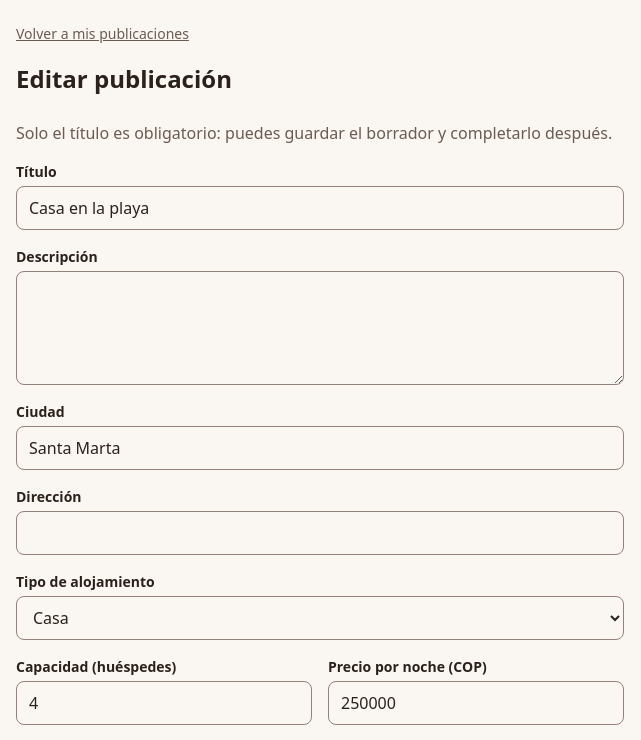
Test: PublicacionFormPage › al editar carga los datos actuales y conserva servicios e imágenes al guardar
Check: the field labelled "Título" holds "Casa en la playa", box top-left (16, 186), bottom-right (624, 230)
Check: the field labelled "Ciudad" holds "Santa Marta", box top-left (16, 426), bottom-right (624, 470)
Replace the text in the field labelled "Precio por noche (COP)" with "300000" at (476,703), box top-left (328, 681), bottom-right (624, 725)
(page scrolled)
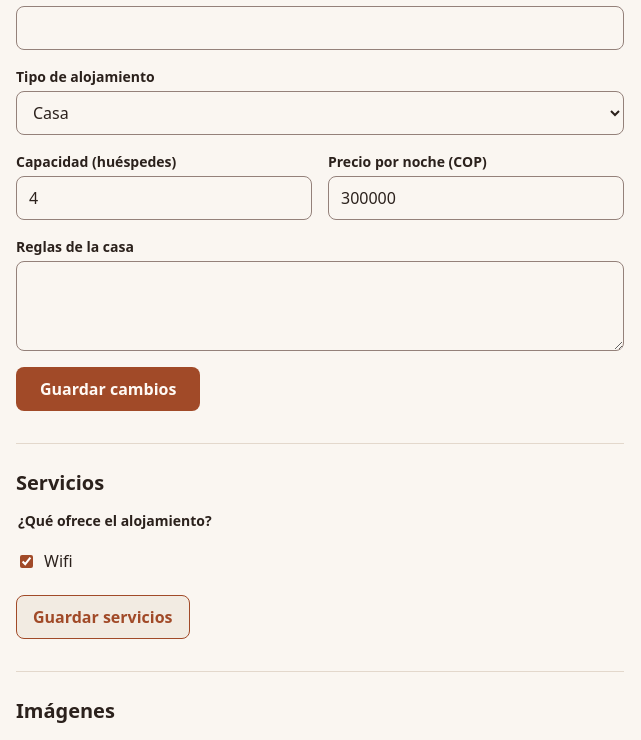
Click the button "Guardar cambios" at (108,389), box top-left (16, 367), bottom-right (200, 411)
(page scrolled)
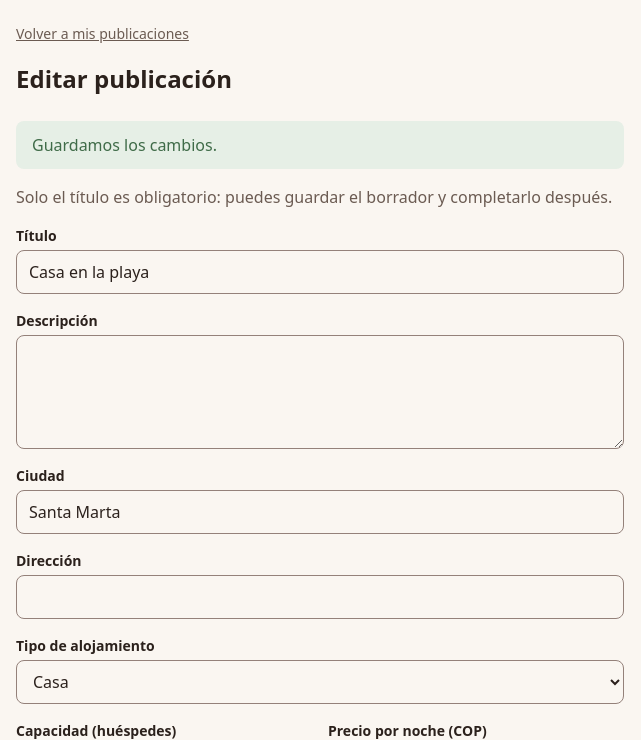
Check: the text "Guardamos los cambios." is shown, box top-left (16, 121), bottom-right (624, 169)
